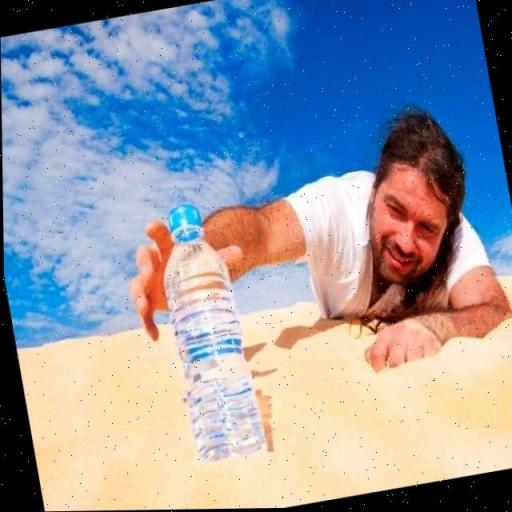plastic: (161, 204, 273, 467)
